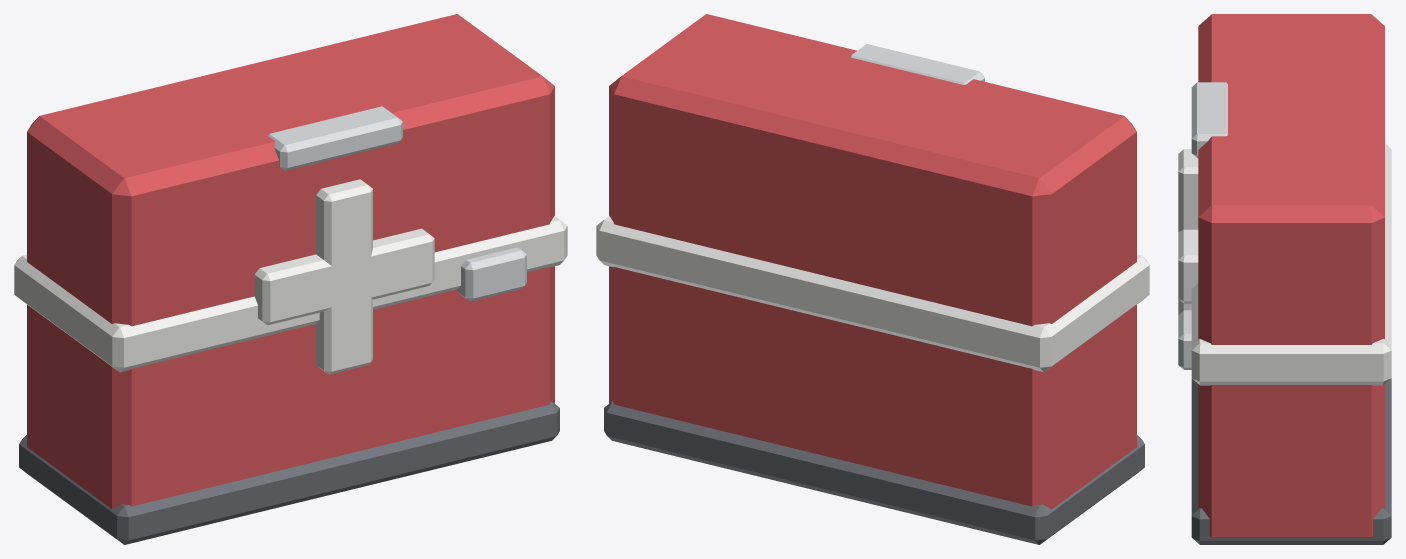
Rendered from ice-hockey-arena-and-locker-room-first-aid-box-60363b52__33736.glb.
The picture shows the model from 3 angles, left to right: view 1: azimuth 30°, elevation 25°; view 2: azimuth 150°, elevation 25°; view 3: azimuth 270°, elevation 25°; orthographic projection. The views are drawn at different scales.
Parts seen in each view (by area): view 1: first-aid-box; view 2: first-aid-box; view 3: first-aid-box.
Part boxes in pixels (x1,y1,x2,y2): first-aid-box: (14,14,567,544); first-aid-box: (596,14,1149,544); first-aid-box: (1178,14,1391,544).
Size of the model in its own units: 0.37 by 0.2812 by 0.16.
